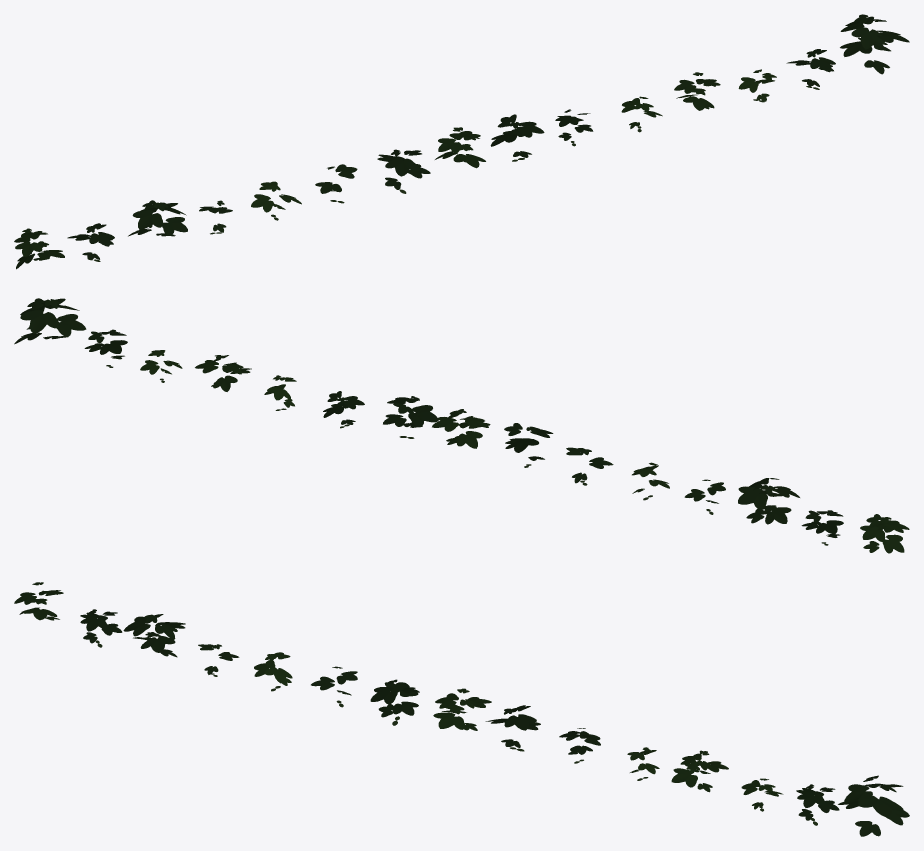
File: ROW_17_SEG4_foliage.dae
The picture shows the model from 3 angles, top to bottom: view 1: azimuth 30°, elevation 25°; view 2: azimuth 150°, elevation 25°; view 3: azimuth 330°, elevation 25°; orthographic projection.
Parts seen in each view (by area): view 1: ROW_17_SEG4_foliage; view 2: ROW_17_SEG4_foliage; view 3: ROW_17_SEG4_foliage.
Boxes of the visible parts, x1,y1,x2,y2 form: ROW_17_SEG4_foliage: (14,14,909,269); ROW_17_SEG4_foliage: (14,298,909,553); ROW_17_SEG4_foliage: (14,582,909,836).
Bounding box in the file's own units: 4.5 × 0.3473 × 0.274.
